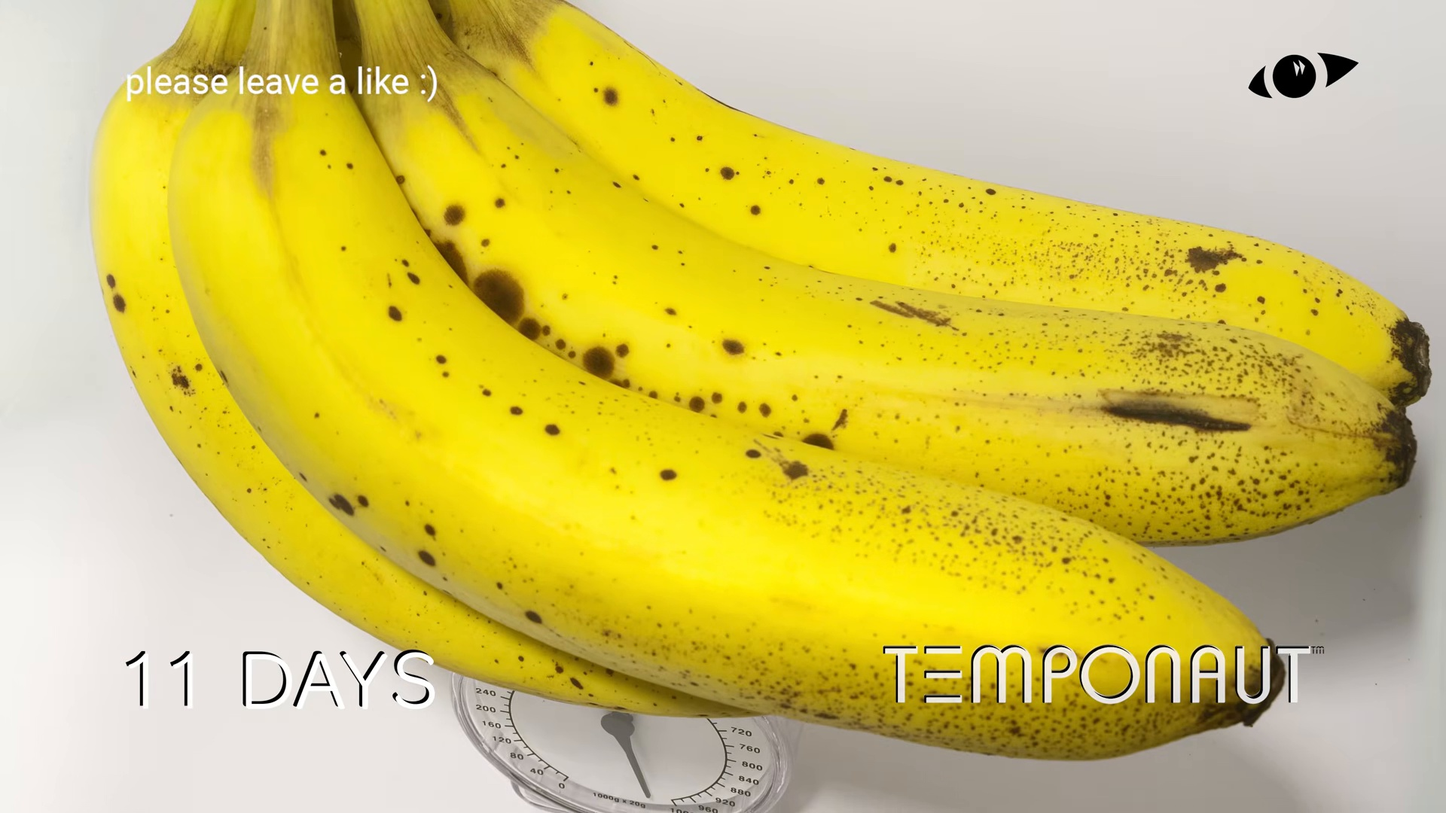banana_fresh: (87, 5, 1428, 763)
